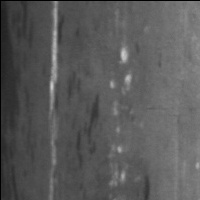inclusion: (1, 1, 30, 167), (71, 93, 103, 167)
scratches: (106, 44, 134, 189), (45, 2, 61, 195)
